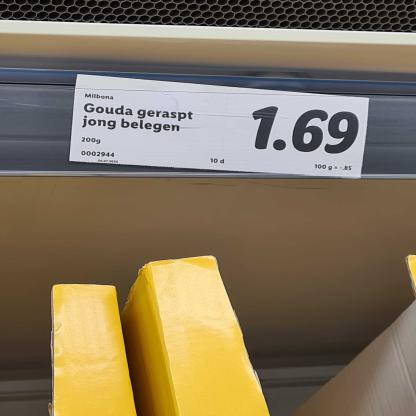prtg: (70, 75, 370, 178)
